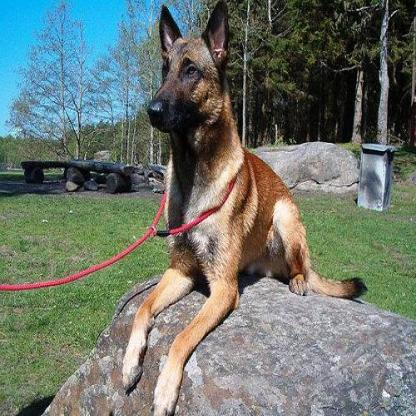malinois: (121, 0, 367, 414)
